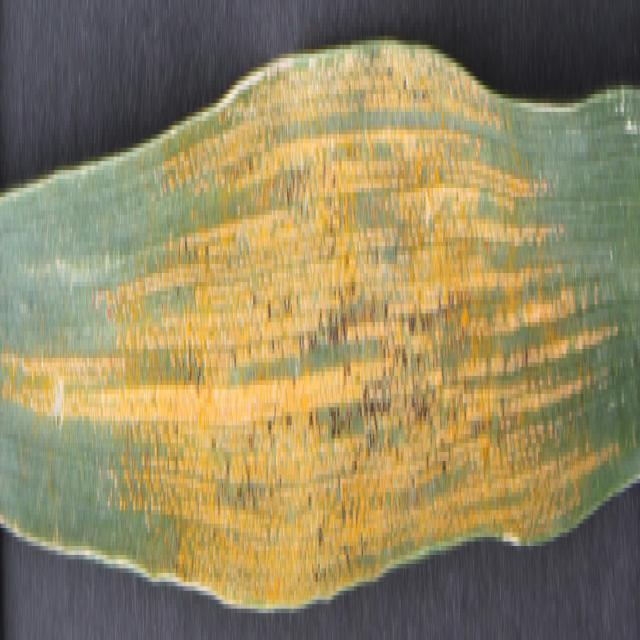leaf rust: (1, 27, 616, 604)
